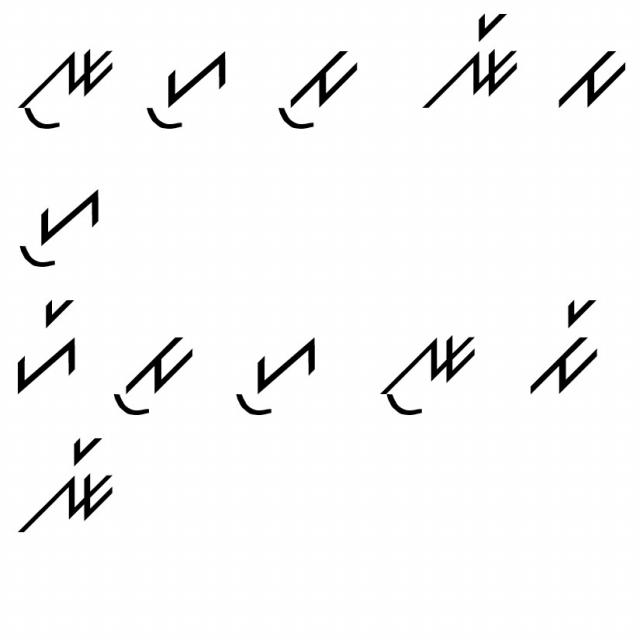har: (5, 296, 84, 398)
haw: (11, 182, 108, 275), (230, 327, 324, 422), (135, 43, 233, 134)
mba: (550, 43, 629, 114)
mbar: (519, 291, 607, 398)
mbaw: (261, 42, 363, 136), (110, 325, 196, 422)
ndar: (414, 9, 524, 115), (17, 428, 114, 545)
ndaw: (374, 326, 485, 420), (12, 46, 120, 136)
